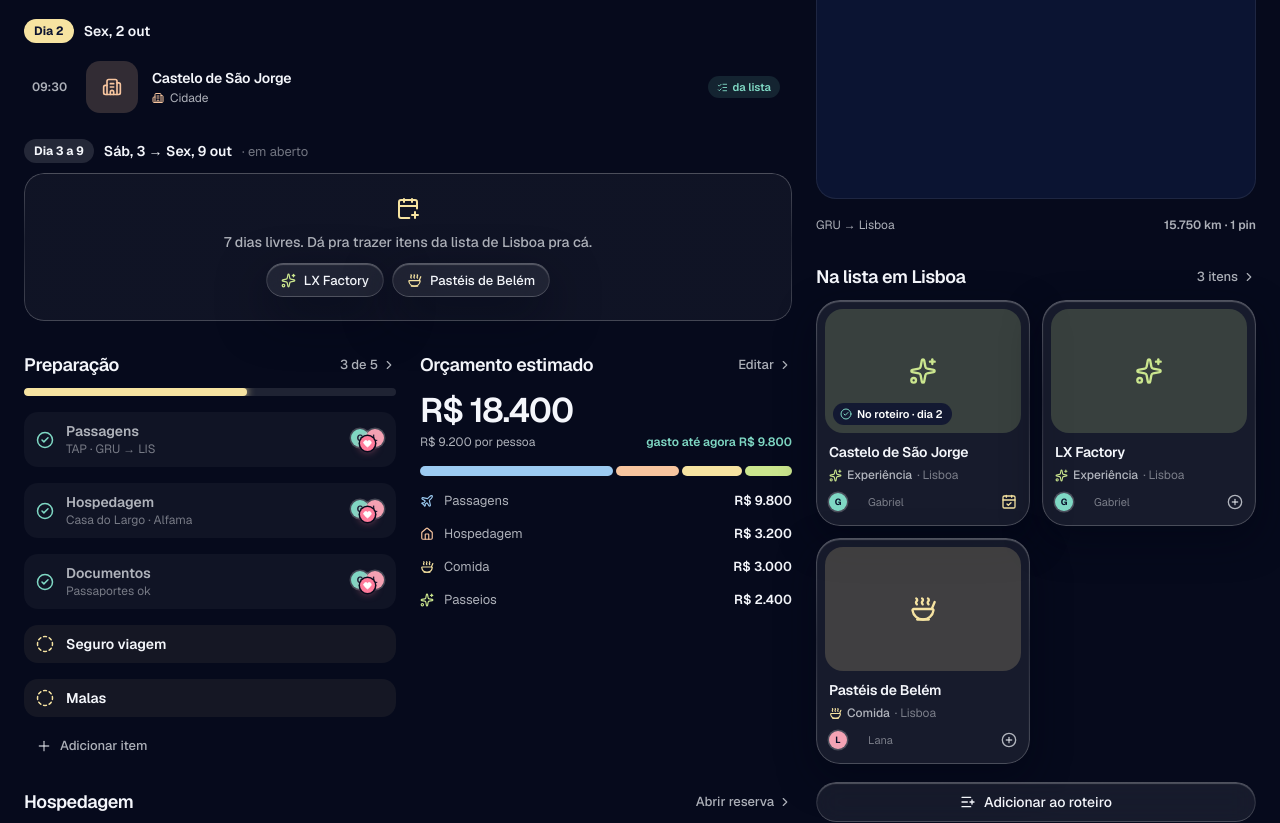
R20b — preparação › falha: a causa aparece e nada relê
This screenshot has width=1280, height=823.
(page scrolled)
Click the checkbox named "Passagens" at (45, 440), box [36,430,54,448]
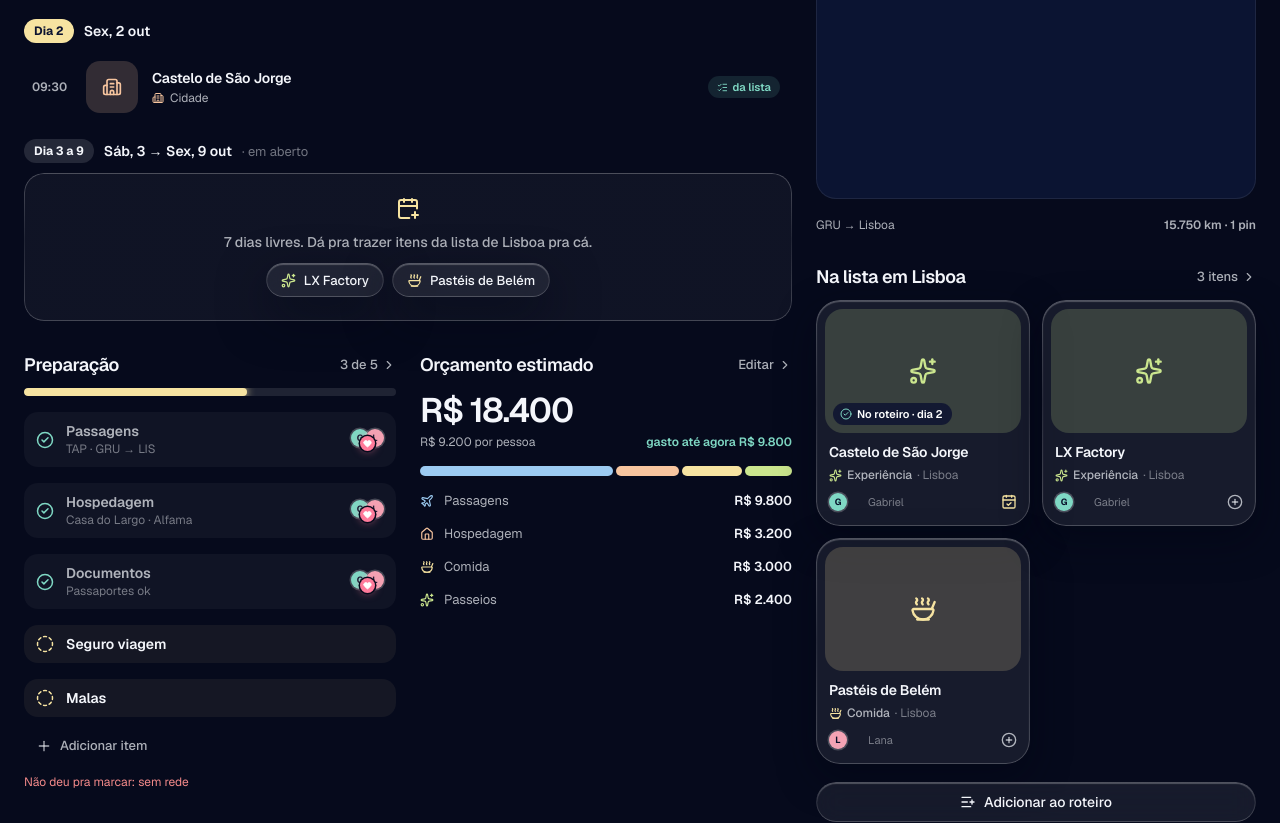
Check: the message reads "Não deu pra marcar: sem rede", box [24,774,189,790]
